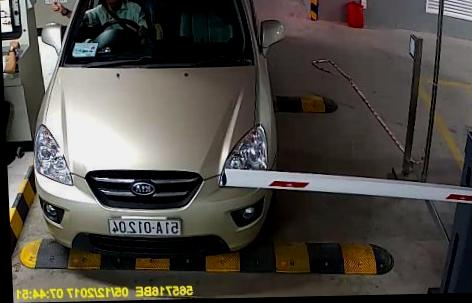License_Plate: (102, 212, 185, 238)
